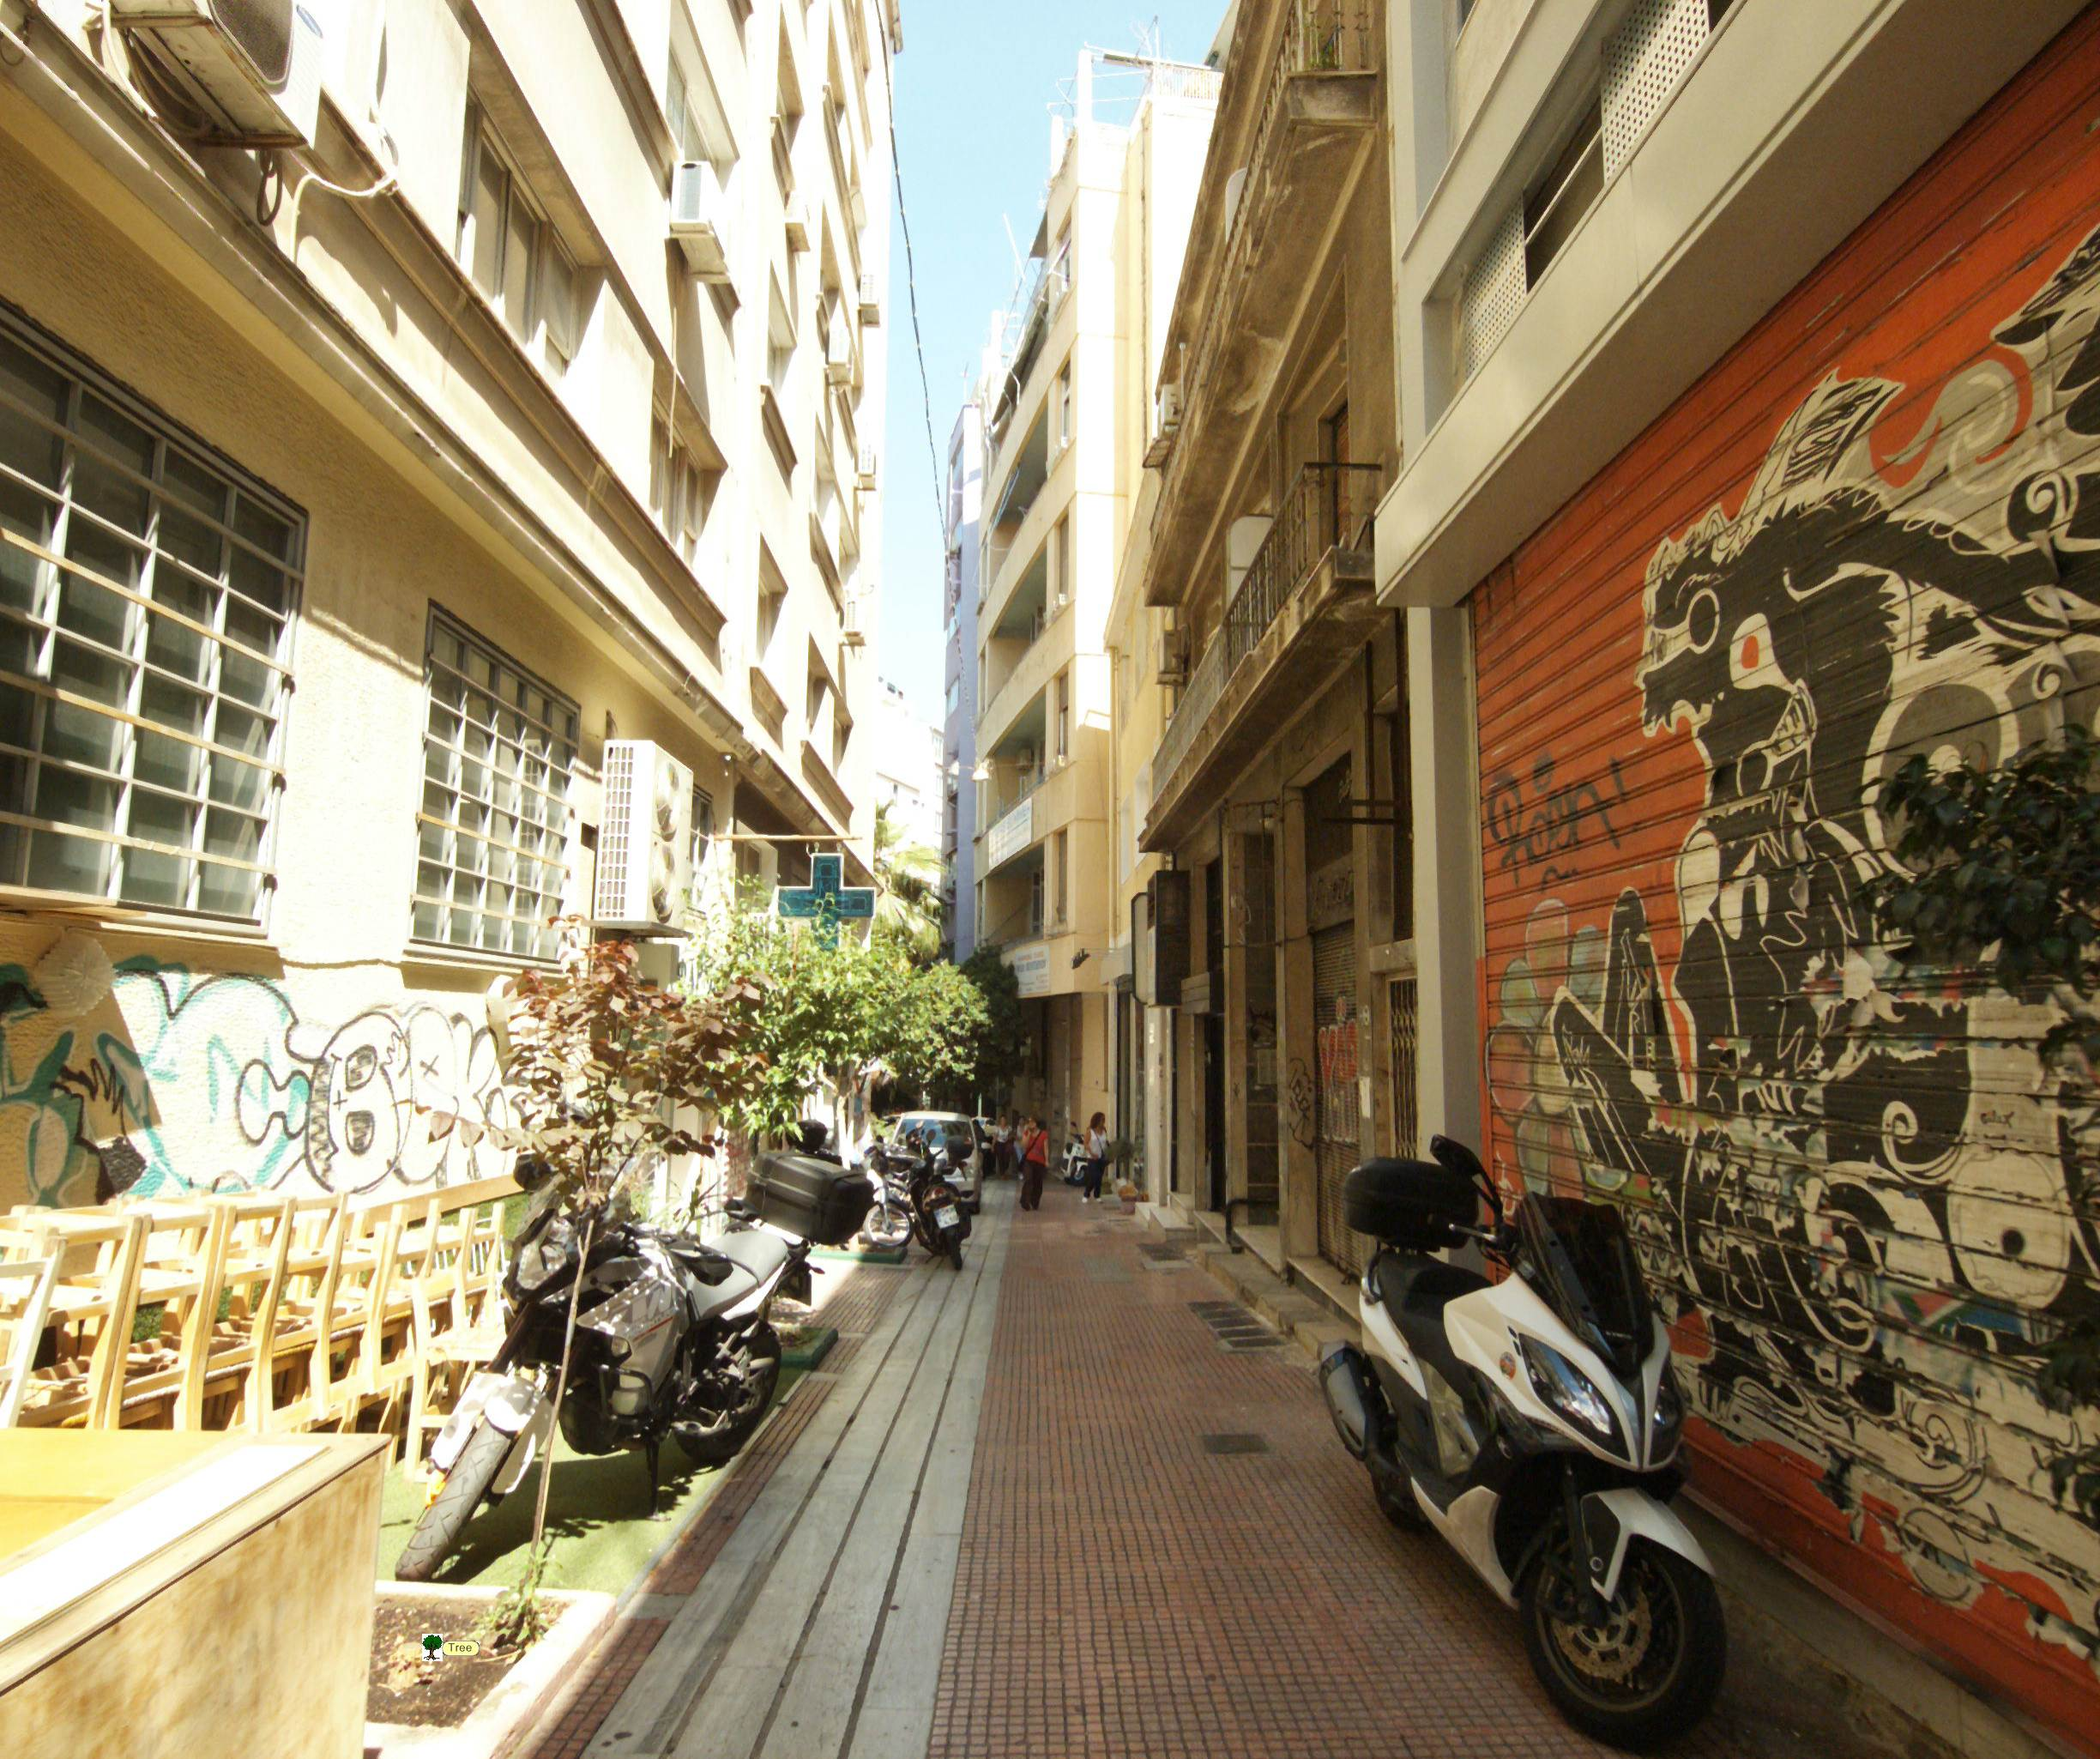tree: (399, 892, 750, 1660)
